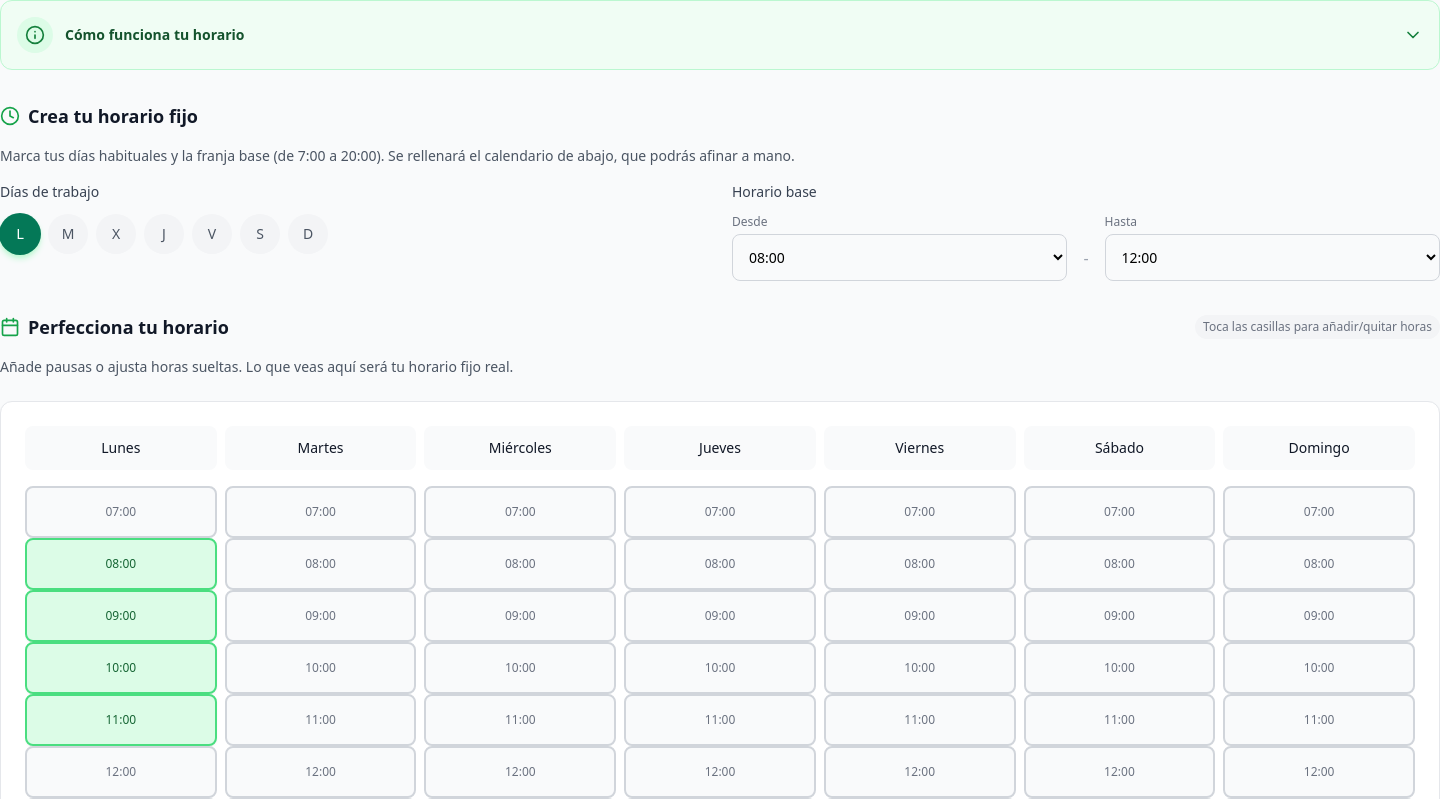
Test: RecurringScheduleManager — sin valores preconfigurados › QA-043 · si cambian las horas, el aviso sigue advirtiendo de que se pierden las excepciones y se regenera
The width and height of the screenshot is (1440, 799).
Expected: the button titled "Lunes" is shown, [0, 213, 41, 255]
Select "14:00" in the dropdown below "Hasta" at (1272, 258), box [1105, 234, 1439, 281]
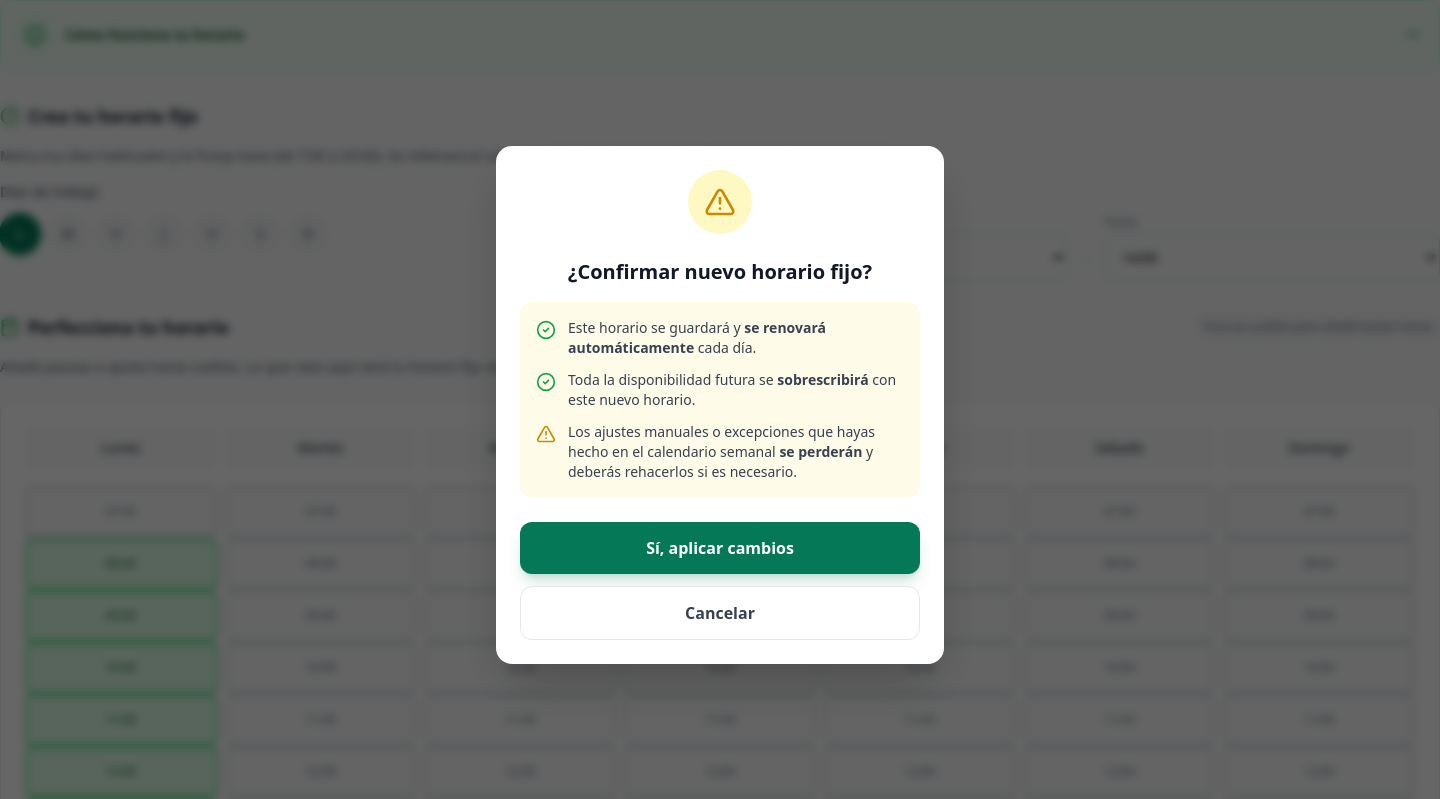
Result: the heading "¿Confirmar nuevo horario fijo?" is shown at [568, 258, 872, 286]
Result: the text "se perderán" is shown at [779, 442, 862, 461]
